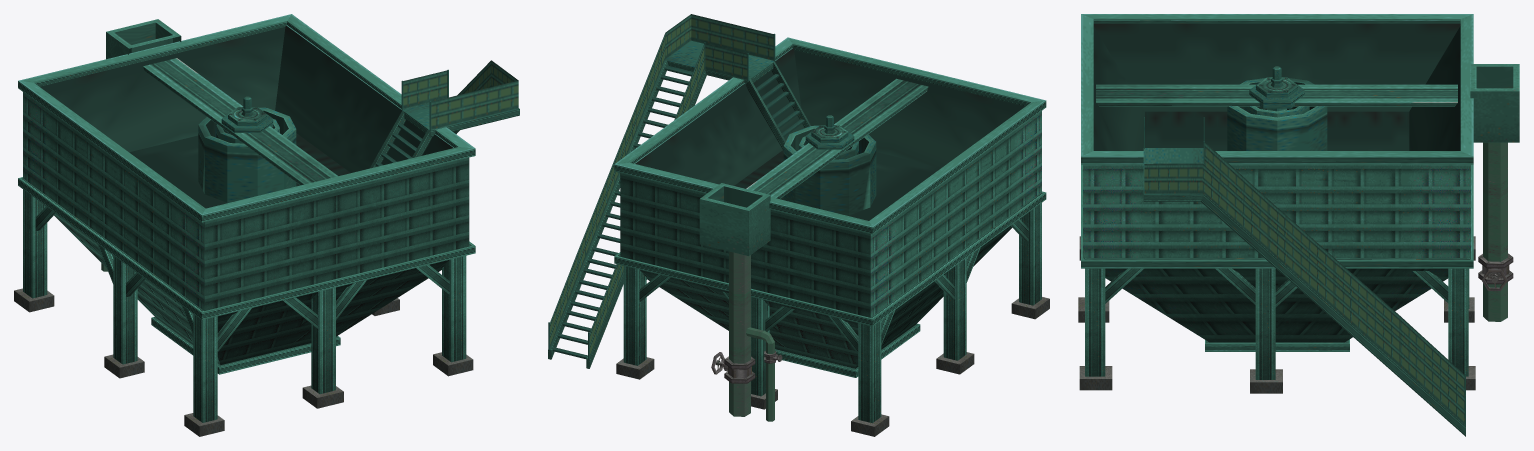
The model's file is oil_remover_01.obj.
3 views of the same model, side by side, from view 1: azimuth 30°, elevation 25°; view 2: azimuth 150°, elevation 25°; view 3: azimuth 270°, elevation 25° (orthographic). The views are drawn at different scales.
Visible parts, largest first — view 1: Box066; view 2: Box066; view 3: Box066.
Boxes of the visible parts, <box> form: Box066: <box>14,14,519,436</box>; Box066: <box>548,14,1049,436</box>; Box066: <box>1078,14,1519,436</box>.
Size of the model in its own units: 21.85 by 15.24 by 22.31.
